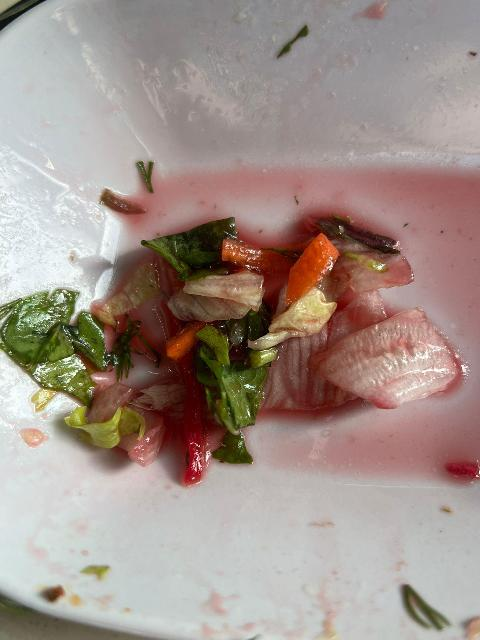Organik: (0, 291, 105, 403), (341, 312, 456, 409), (58, 395, 155, 462), (286, 234, 339, 305), (162, 230, 227, 275), (400, 572, 445, 636), (136, 158, 158, 198)
